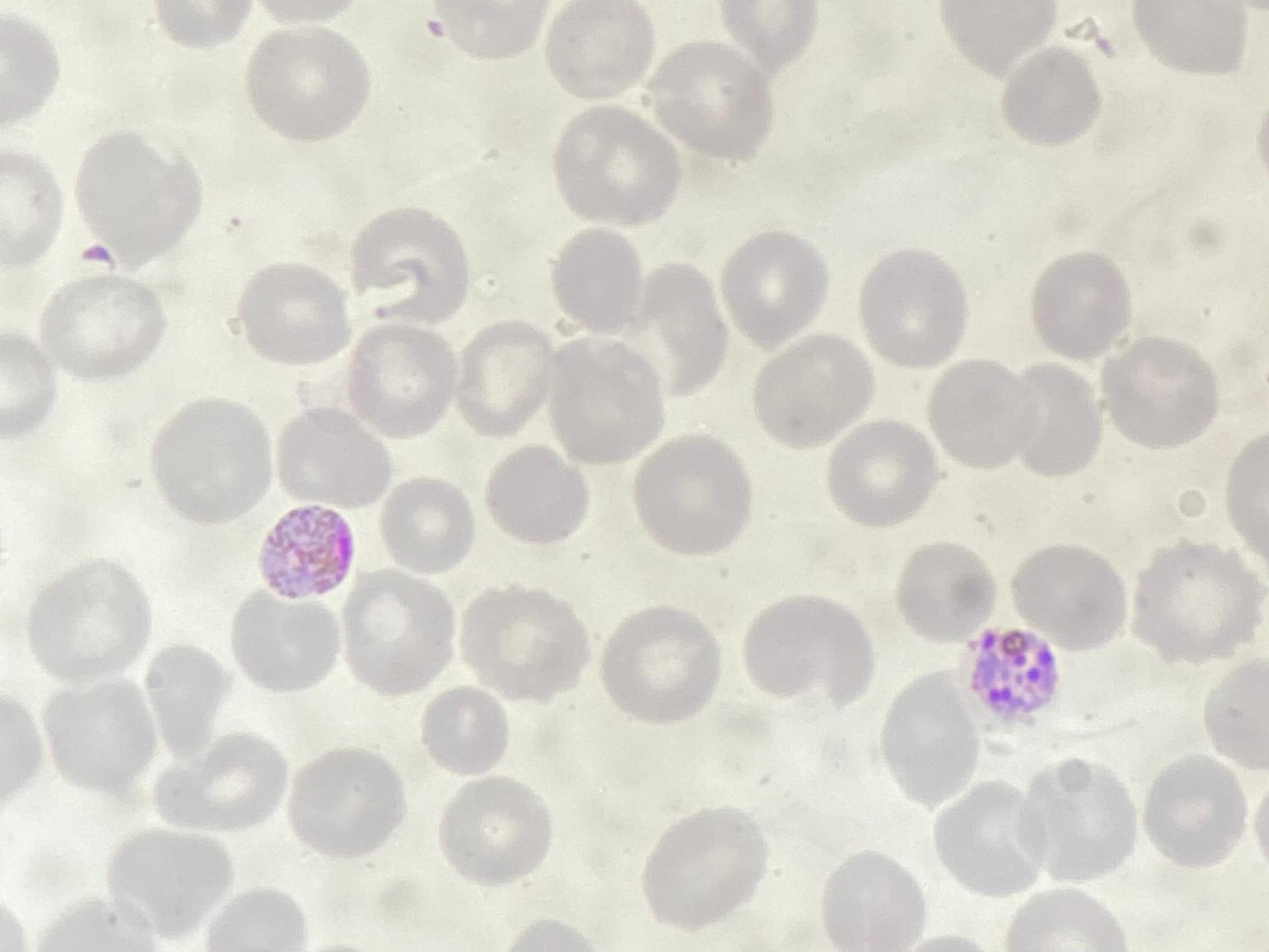Infected: (263, 501, 358, 599), (973, 628, 1060, 713)
Uninfected: (76, 131, 202, 266), (1129, 540, 1255, 661), (149, 396, 269, 523), (458, 586, 587, 703), (646, 42, 771, 162), (640, 811, 765, 931), (26, 560, 148, 682), (546, 337, 664, 462), (742, 596, 871, 710), (348, 207, 471, 326), (105, 826, 232, 940), (1019, 760, 1138, 881), (340, 571, 459, 691), (632, 436, 751, 554), (600, 606, 722, 721), (554, 106, 675, 221), (247, 27, 367, 141), (40, 273, 165, 382), (751, 337, 871, 449), (154, 731, 285, 833), (41, 680, 157, 793), (1101, 335, 1218, 447), (286, 747, 403, 859), (437, 776, 555, 886), (344, 322, 458, 435), (879, 677, 978, 805), (719, 231, 829, 346), (858, 248, 966, 365), (927, 357, 1039, 468), (1012, 543, 1126, 652), (1141, 754, 1248, 867), (276, 406, 390, 510), (932, 782, 1038, 893), (235, 262, 349, 365), (639, 264, 730, 393), (827, 419, 936, 525), (1028, 251, 1133, 360), (231, 589, 340, 692), (455, 320, 555, 432), (483, 442, 589, 544), (1003, 43, 1106, 147), (820, 851, 925, 952), (550, 227, 650, 333), (895, 540, 995, 642), (144, 644, 232, 758), (1013, 366, 1103, 476), (545, 1, 652, 93), (379, 478, 477, 574), (944, 3, 1053, 77), (421, 686, 510, 775), (1134, 1, 1244, 73), (1005, 888, 1126, 951), (1202, 659, 1269, 768), (433, 1, 548, 61), (724, 1, 818, 71)
